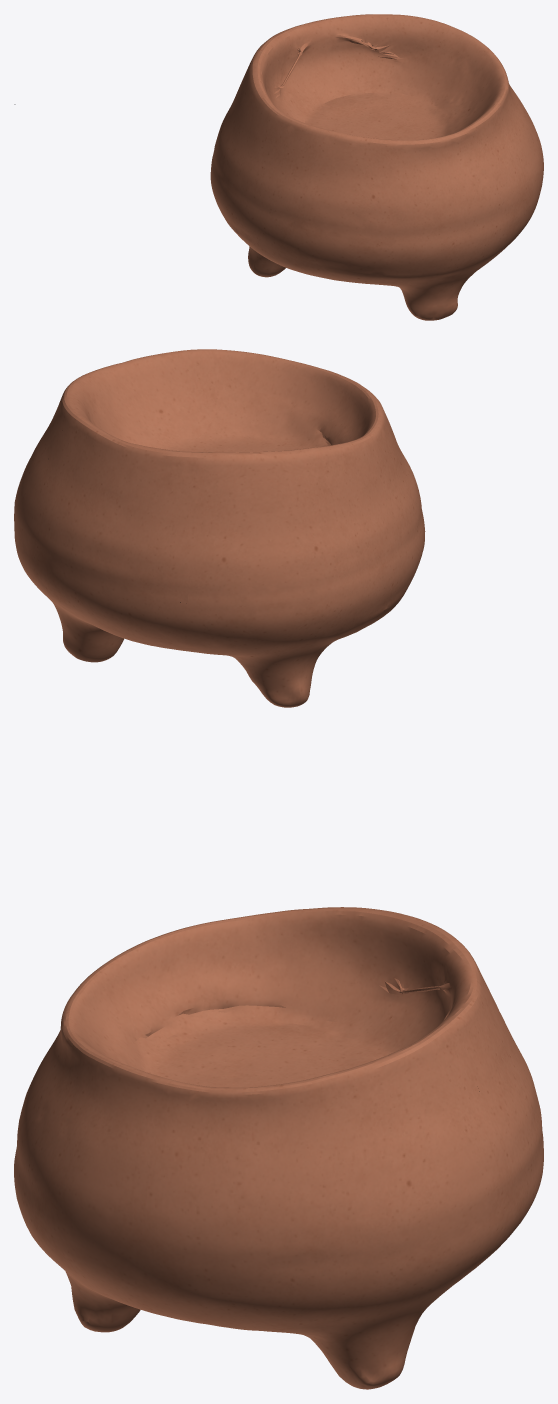
File: incense-burner-raw.glb
The picture shows the model from 3 angles, top to bottom: view 1: azimuth 30°, elevation 25°; view 2: azimuth 150°, elevation 25°; view 3: azimuth 270°, elevation 25°; orthographic projection. The views are drawn at different scales.
Bounding box in the file's own units: 0.1755 × 0.0792 × 0.1097.
Materials: 2 (1 with a texture image).
